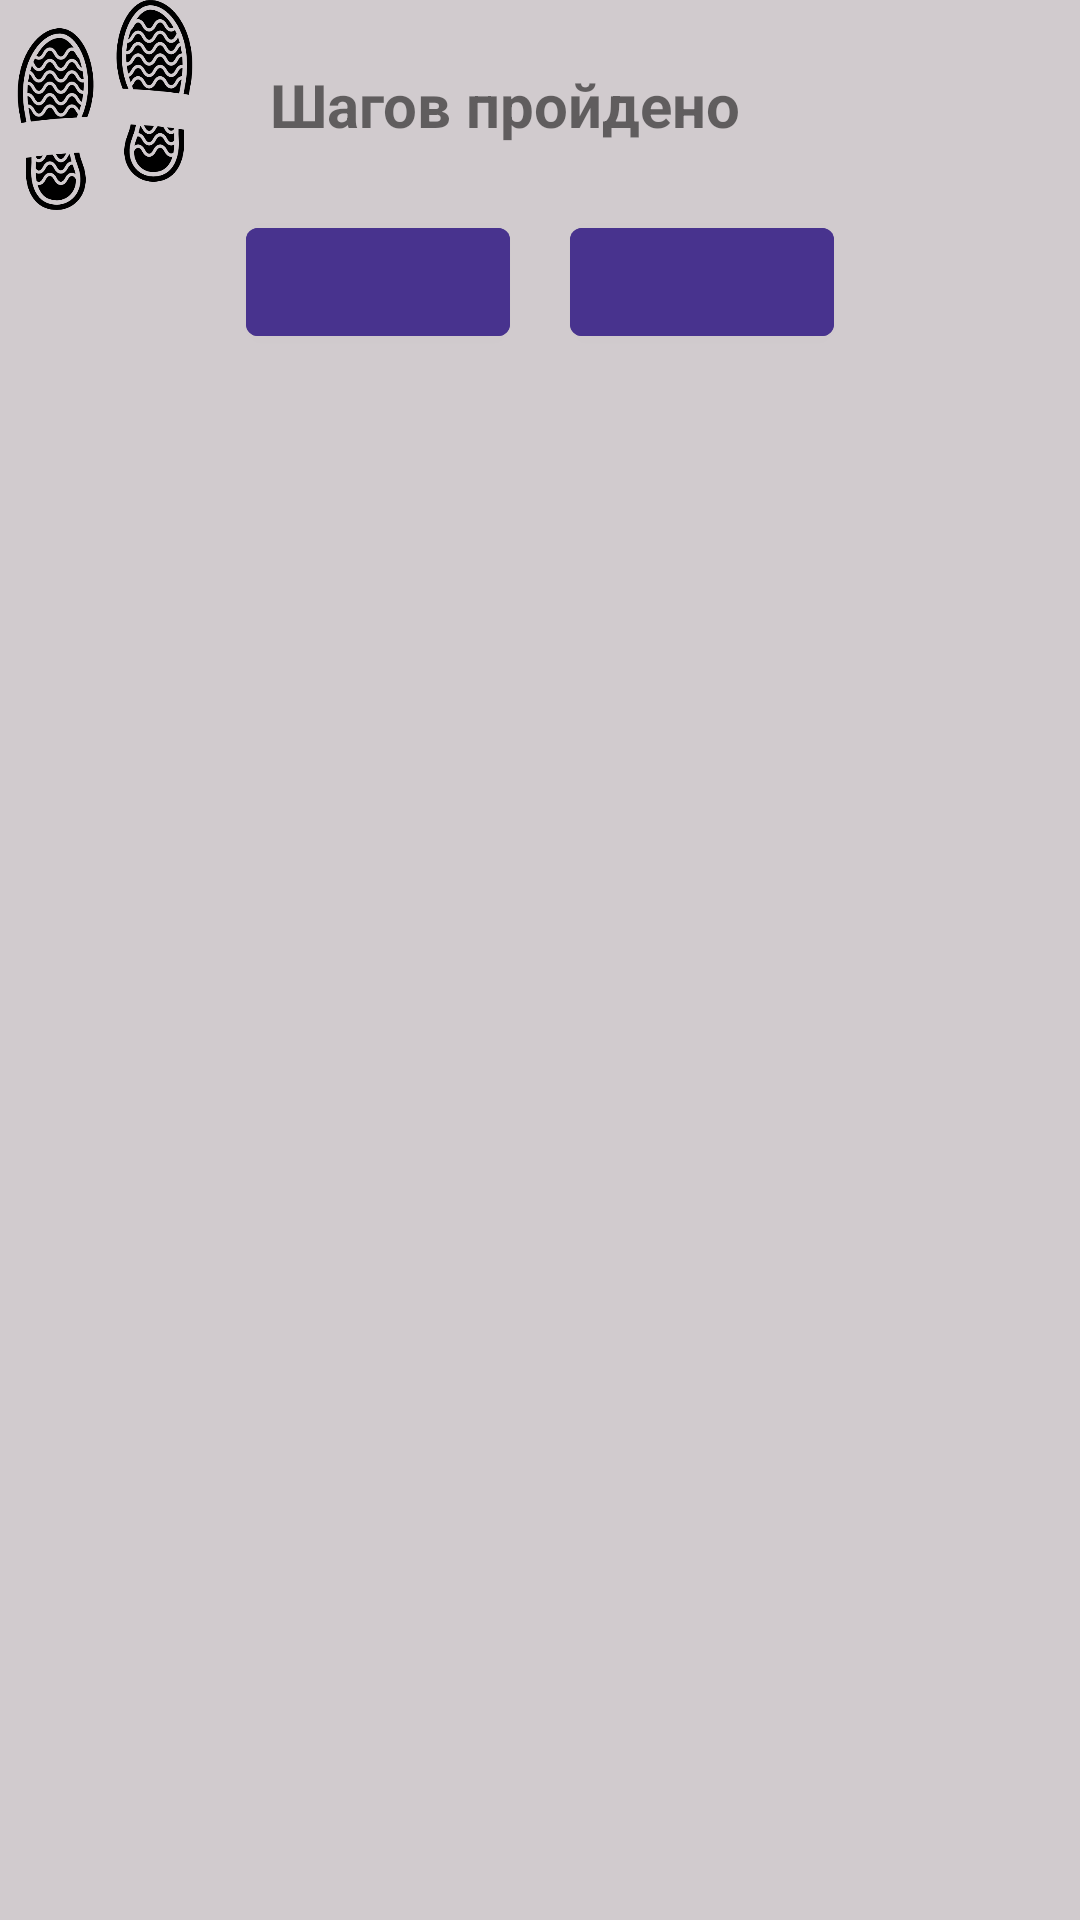

Where to tap for icons on this 1080 × 1920 app screen, as (x,y):
footprints: (105,105)
